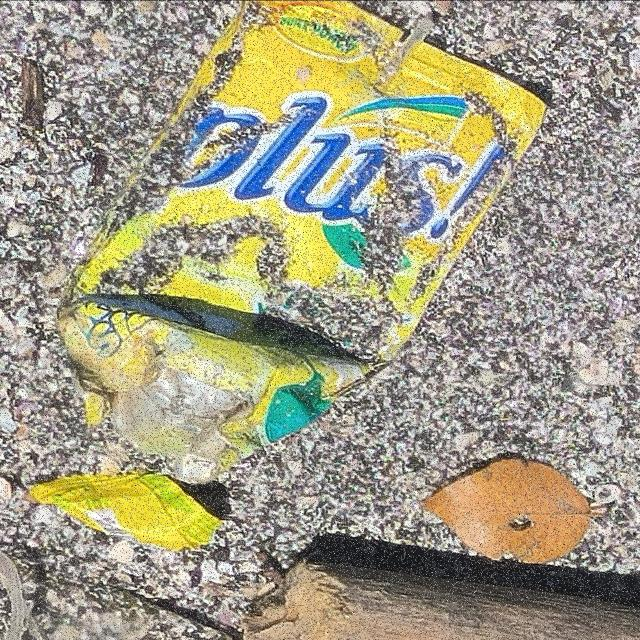plastic_waste: (55, 1, 551, 477), (20, 466, 229, 554)
